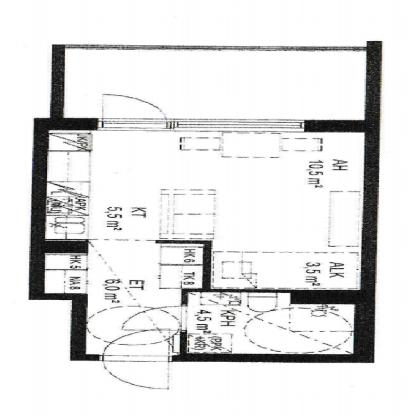door: (100, 326, 184, 393), (113, 300, 192, 334), (102, 88, 163, 118)
window: (171, 120, 307, 131), (100, 120, 168, 131)
zone: (43, 131, 365, 290), (67, 48, 368, 121), (186, 292, 353, 353), (43, 242, 204, 292), (82, 289, 182, 355)
